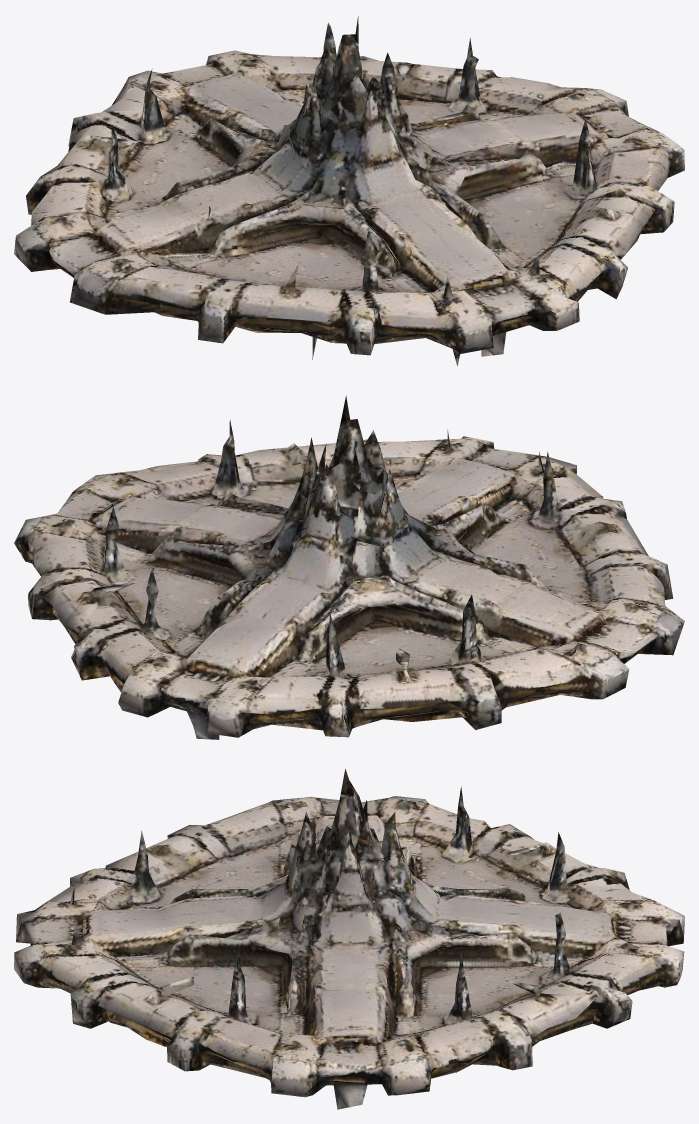
Rendered from st3d_perimeter_picket_lod2.glb.
The picture shows the model from 3 angles, top to bottom: view 1: azimuth 30°, elevation 25°; view 2: azimuth 150°, elevation 25°; view 3: azimuth 270°, elevation 25°; orthographic projection. The views are drawn at different scales.
Parts seen in each view (by area): view 1: HOMELANCER_Station3D_Perimeter-BorderlinePicket_v1; view 2: HOMELANCER_Station3D_Perimeter-BorderlinePicket_v1; view 3: HOMELANCER_Station3D_Perimeter-BorderlinePicket_v1.
Part boxes in pixels (bbox=[...]): HOMELANCER_Station3D_Perimeter-BorderlinePicket_v1: bbox=[14, 16, 684, 366]; HOMELANCER_Station3D_Perimeter-BorderlinePicket_v1: bbox=[14, 395, 684, 739]; HOMELANCER_Station3D_Perimeter-BorderlinePicket_v1: bbox=[14, 769, 684, 1109].
Size of the model in its own units: 0.9742 by 0.511 by 0.9734.
1 material, 1 textured.
